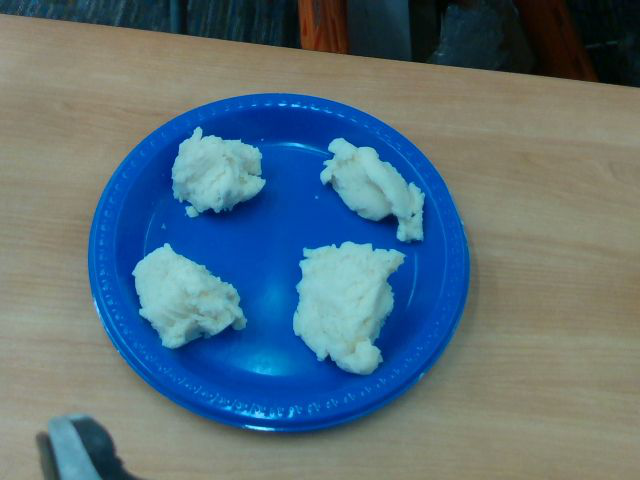mashed_potato: (292, 242, 405, 376), (132, 243, 246, 348), (320, 138, 425, 241), (172, 127, 266, 215)
